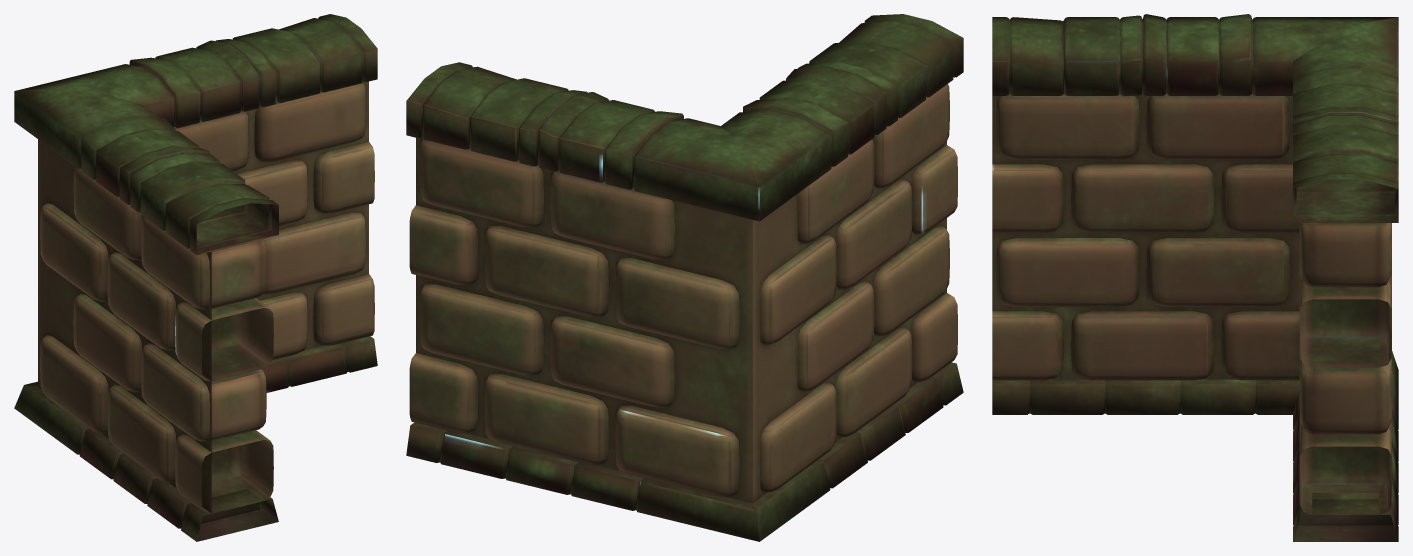
File: ParedEsquinaGraande.fbx
3 views of the same model, side by side, from view 1: azimuth 30°, elevation 25°; view 2: azimuth 150°, elevation 25°; view 3: azimuth 270°, elevation 25° (orthographic). The views are drawn at different scales.
Parts seen in each view (by area): view 1: Corner_Wall.002; view 2: Corner_Wall.002; view 3: Corner_Wall.002.
Boxes of the visible parts, box(x1,y1,x2,y2) form: Corner_Wall.002: box(14, 14, 377, 541); Corner_Wall.002: box(406, 14, 963, 541); Corner_Wall.002: box(992, 14, 1398, 541).
Size of the model in its own units: 5.41 by 5.36 by 5.41.
